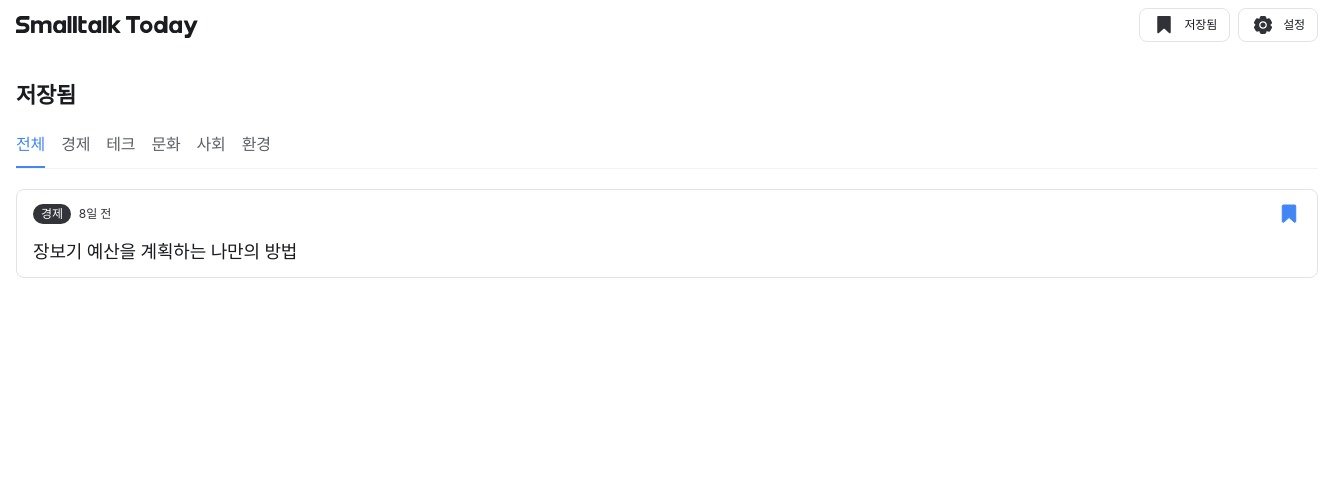
Test: card screen integration › shows the empty view when the last saved card is removed
The image size is (1335, 477).
Later steps or results of the test are not shown.
What coordinates should you click on to do the following:
click the button named "장보기 예산을 계획하는 나만의 방법 저장 해제"
I would click on:
 (1289, 214)
Its box is [1277,202,1301,226].
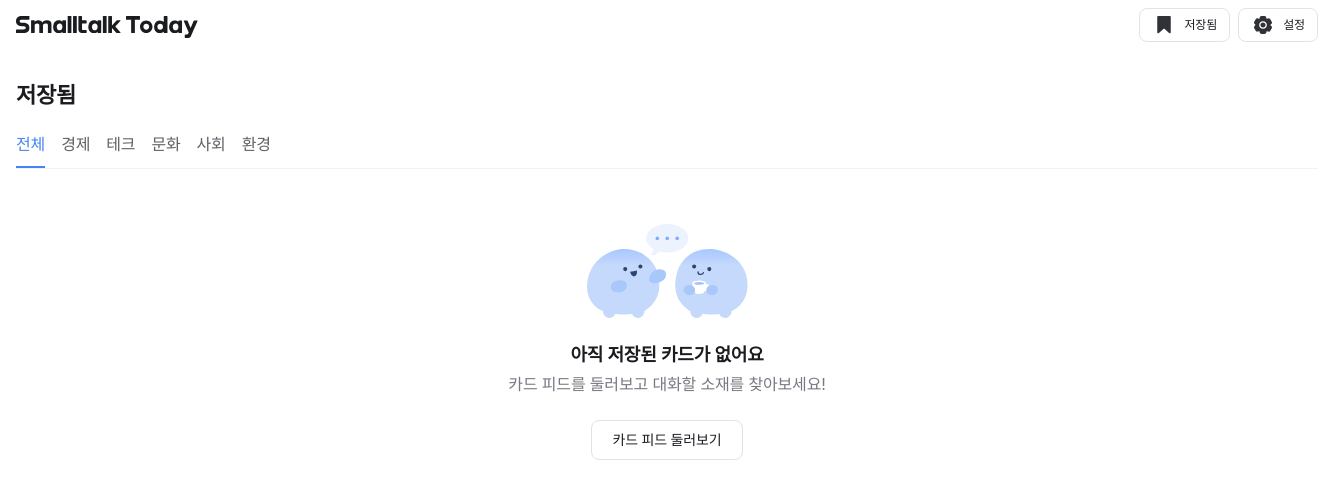
Expected: the heading "아직 저장된 카드가 없어요" is shown, [570,344,764,365]
